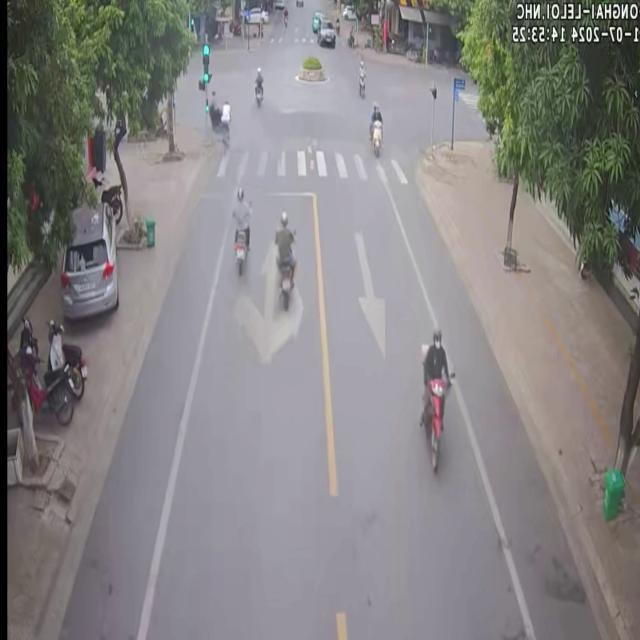car: (59, 200, 117, 318), (316, 18, 334, 46), (309, 9, 324, 31)
green_light: (200, 39, 211, 84)
motobike: (418, 327, 453, 469), (273, 209, 294, 309), (230, 185, 250, 274), (367, 100, 382, 156), (253, 65, 262, 105), (357, 58, 364, 95)
stop_line: (201, 188, 308, 196)
